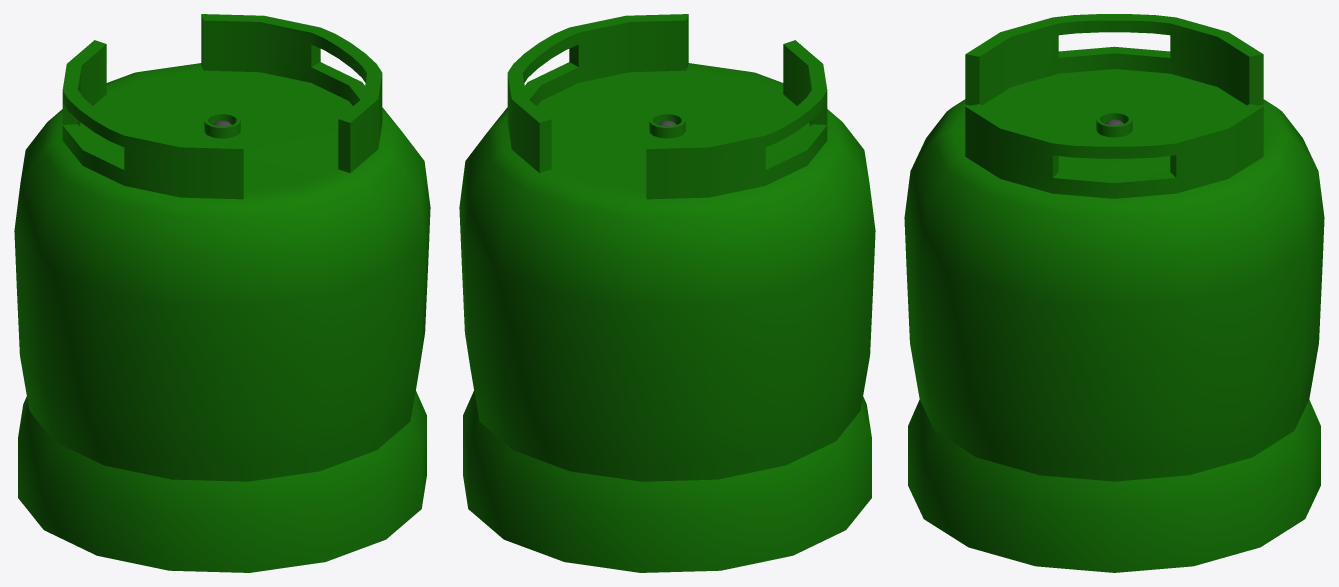
File: gas17.glb
3 renders of one model, left to right at view 1: azimuth 30°, elevation 25°; view 2: azimuth 150°, elevation 25°; view 3: azimuth 270°, elevation 25°, orthographic.
Visible parts, largest first — view 1: Gas17; view 2: Gas17; view 3: Gas17.
Boxes of the visible parts, x1,y1,x2,y2 form: Gas17: (14,14,430,572); Gas17: (459,14,875,572); Gas17: (904,14,1324,572).
Bounding box in the file's own units: 1.91 × 2.03 × 1.91.
